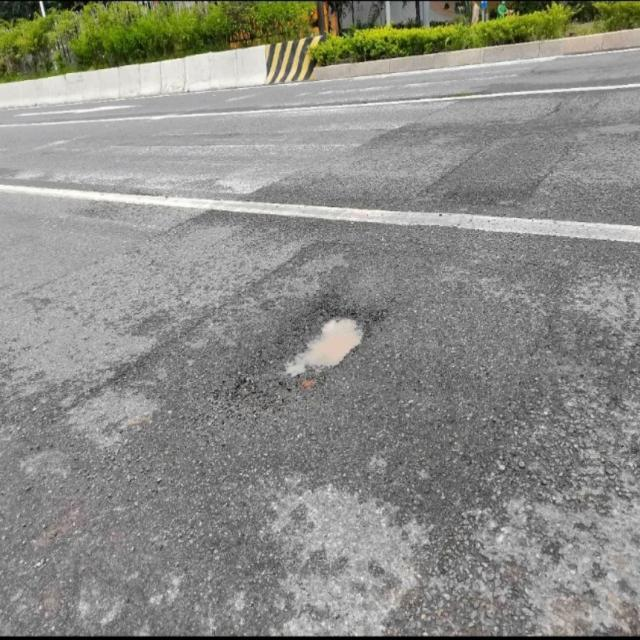Pothole: (287, 312, 369, 388)
